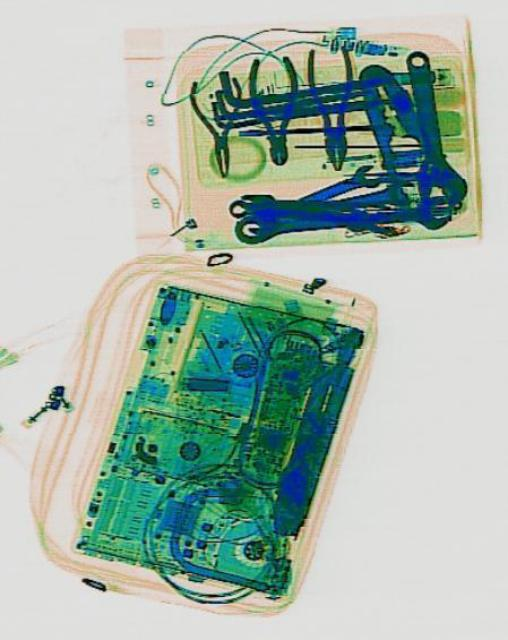Pliers: (345, 50, 446, 206), (302, 41, 358, 170), (188, 72, 249, 180), (244, 52, 298, 165)
Wrench: (384, 42, 468, 212), (229, 156, 381, 248), (231, 194, 451, 250)
